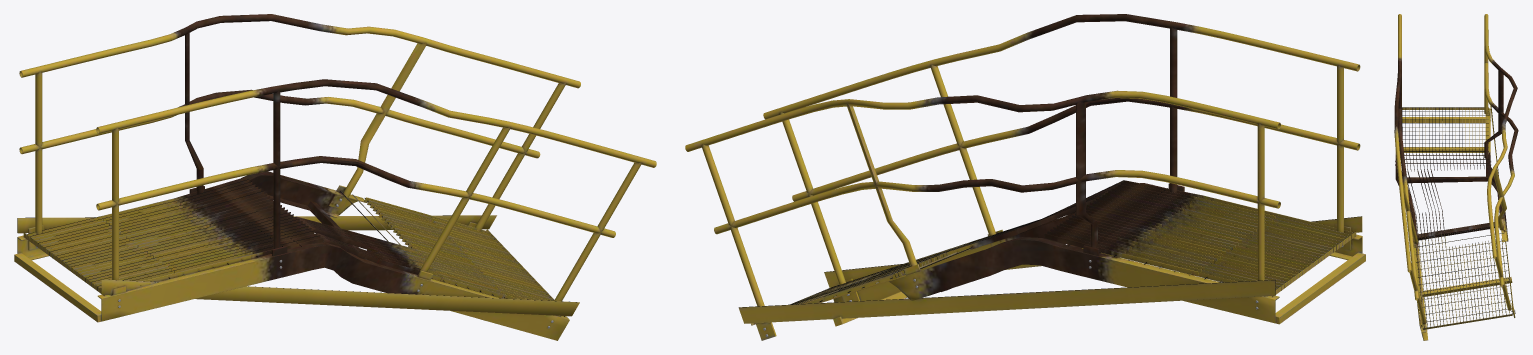
Rendered from industrial_walkway_torn.glb.
The picture shows the model from 3 angles, left to right: view 1: azimuth 30°, elevation 25°; view 2: azimuth 150°, elevation 25°; view 3: azimuth 270°, elevation 25°; orthographic projection. The views are drawn at different scales.
Parts seen in each view (by area): view 1: industrial_walkway_torn_paint; view 2: industrial_walkway_torn_paint; view 3: industrial_walkway_torn_paint.
Boxes of the visible parts, x1=… form: industrial_walkway_torn_paint: x1=14, y1=14, x2=656, y2=340; industrial_walkway_torn_paint: x1=685, y1=14, x2=1365, y2=340; industrial_walkway_torn_paint: x1=1394, y1=14, x2=1518, y2=340.
Size of the model in its own units: 3.9 by 2.26 by 1.3.
2 materials, 1 textured.
